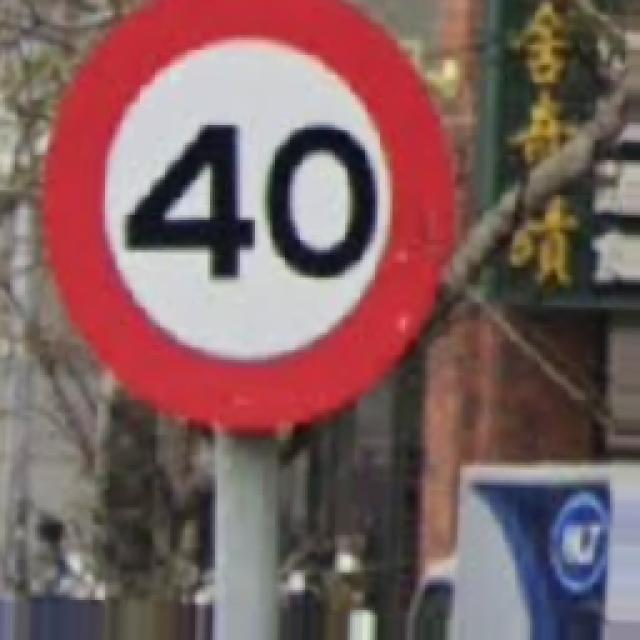Speed Limit -40-: (48, 0, 452, 428)
